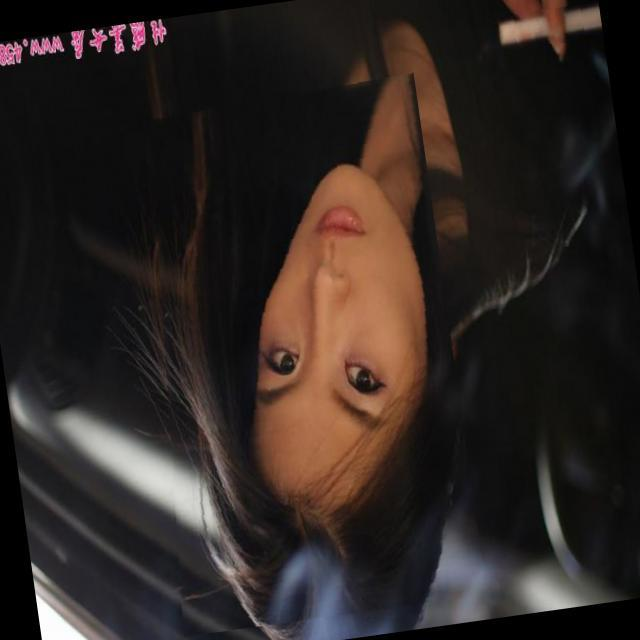cigarette: (476, 2, 606, 70)
